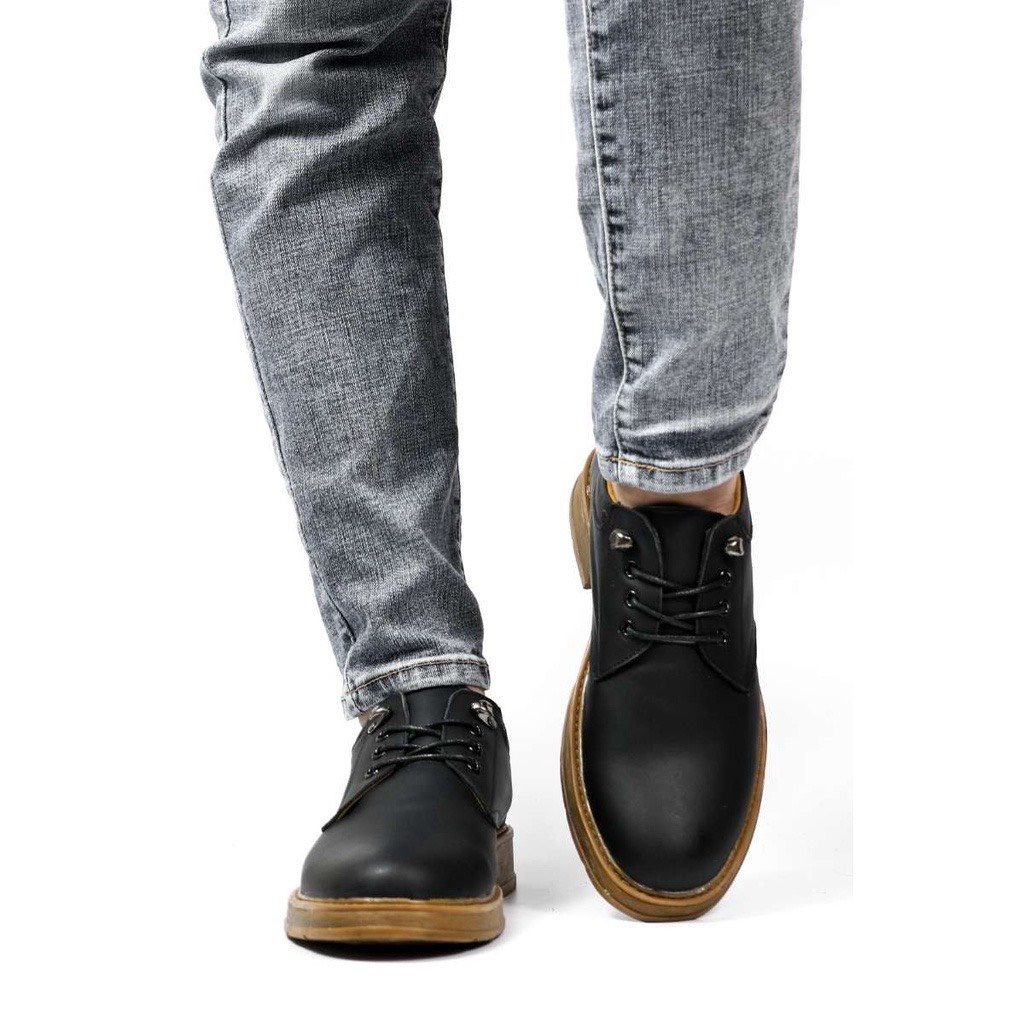derby: (557, 450, 769, 922), (283, 688, 518, 952)
